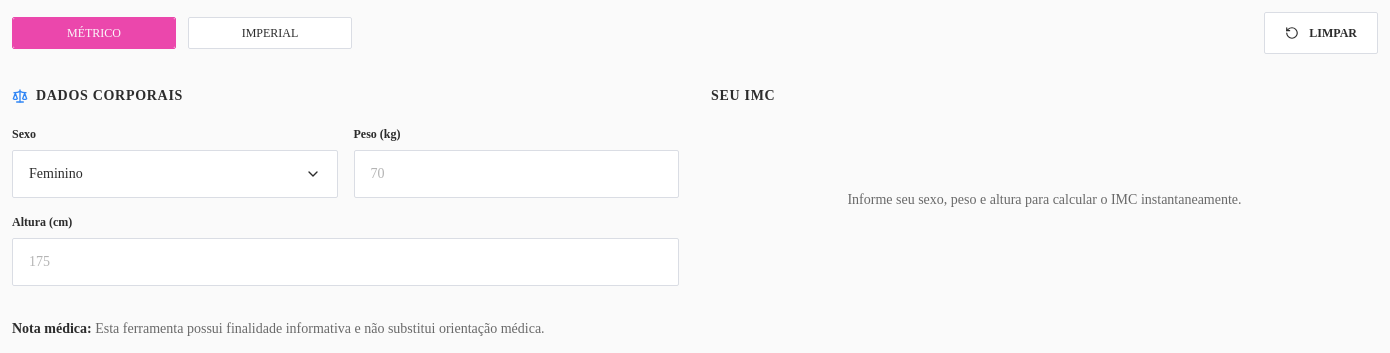
Scenario: Health Tools Integration Tests › AppBmiCalculator › clears inputs when clicking reset
Step 1. Type "85" into the number field labelled "Peso (kg)" → [516, 174], box [354, 150, 679, 198]
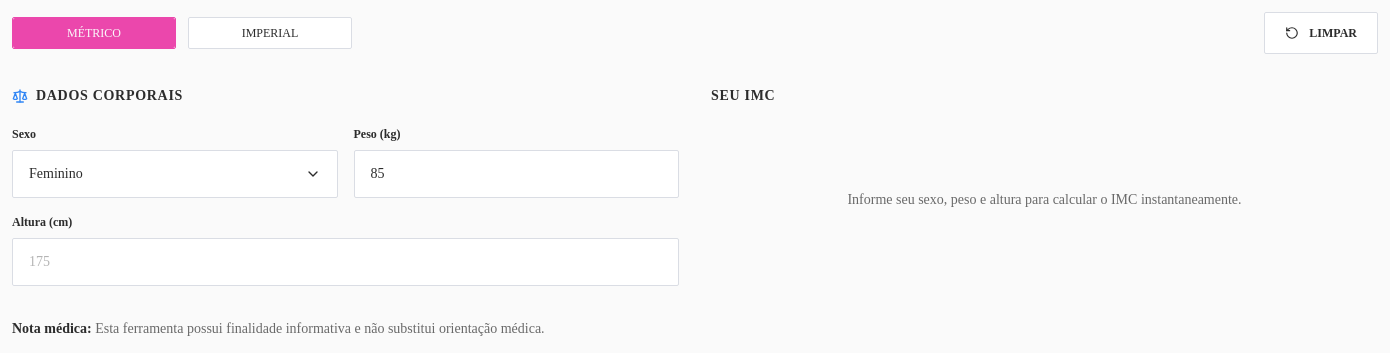
Step 2. Click the button "Limpar" → [1321, 33], box [1264, 12, 1378, 54]
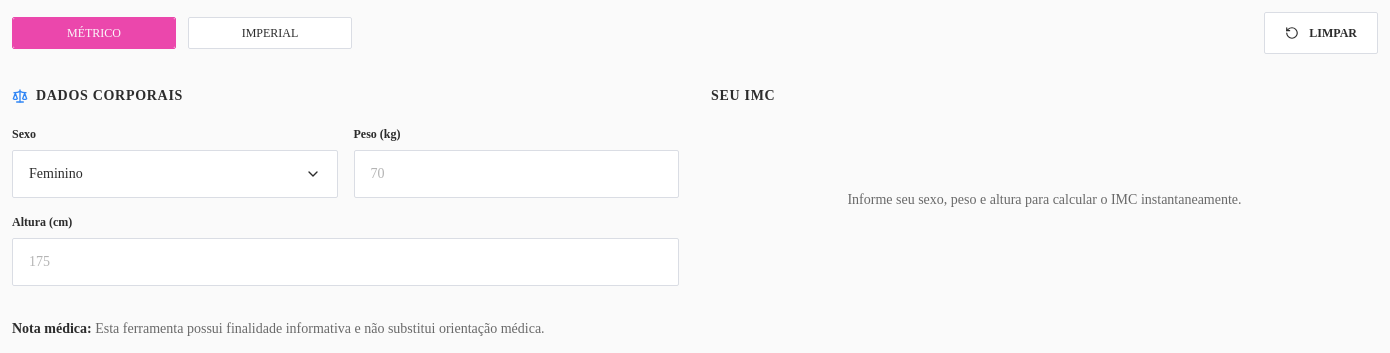
Result: the number field labelled "Peso (kg)" is not empty at [354, 150, 679, 198]
